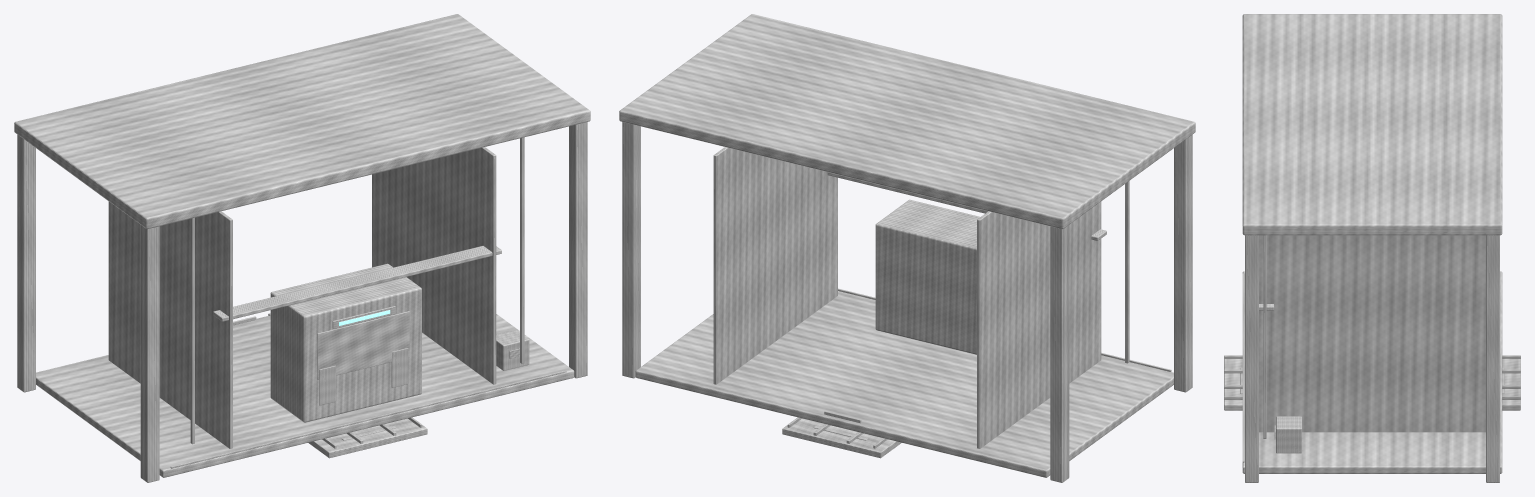
The model's file is train_station_variant_d.glb.
3 renders of one model, left to right at view 1: azimuth 30°, elevation 25°; view 2: azimuth 150°, elevation 25°; view 3: azimuth 270°, elevation 25°, orthographic. The views are drawn at different scales.
Visible parts, largest first — view 1: Roof shell, Raised service platform.003, Side cladding.001, Side cladding, Control module, Enclosed hall column, Enclosed hall column.002, Enclosed hall column.001, Control room glazing, Platform service canopy.003, Track bed.003, Platform edge marking.003 (+5 smaller); view 2: Roof shell, Raised service platform.003, Side cladding.001, Side cladding, Control module, Enclosed hall column.001, Enclosed hall column.003, Enclosed hall column, Track bed.003, Platform light mast.006, Platform service canopy.003; view 3: Roof shell, Side cladding.001, Raised service platform.003, Enclosed hall column.002, Enclosed hall column.003, Track bed.003, Power connection housing.003, Platform light mast.007, Platform edge marking.003.
Part boxes in pixels (x1,y1,x2,y2): Roof shell: [14, 14, 590, 229]; Raised service platform.003: [36, 314, 574, 477]; Side cladding.001: [372, 147, 496, 384]; Side cladding: [108, 201, 232, 448]; Control module: [270, 263, 421, 422]; Enclosed hall column: [140, 225, 159, 482]; Enclosed hall column.002: [569, 122, 587, 378]; Enclosed hall column.001: [17, 134, 35, 392]; Control room glazing: [317, 311, 409, 379]; Platform service canopy.003: [213, 246, 501, 321]; Track bed.003: [308, 418, 427, 458]; Platform edge marking.003: [170, 370, 566, 468]; Roof shell: [619, 14, 1195, 229]; Raised service platform.003: [635, 291, 1173, 477]; Side cladding.001: [713, 147, 837, 384]; Side cladding: [977, 201, 1101, 448]; Control module: [875, 199, 979, 354]; Enclosed hall column.001: [1050, 225, 1069, 482]; Enclosed hall column.003: [622, 122, 640, 378]; Enclosed hall column: [1174, 134, 1192, 392]; Track bed.003: [782, 418, 901, 458]; Platform light mast.006: [1125, 181, 1129, 363]; Platform service canopy.003: [827, 172, 1106, 240]; Roof shell: [1242, 14, 1502, 235]; Side cladding.001: [1259, 235, 1485, 432]; Raised service platform.003: [1242, 271, 1502, 473]; Enclosed hall column.002: [1245, 235, 1258, 482]; Enclosed hall column.003: [1486, 235, 1499, 482]; Track bed.003: [1224, 359, 1520, 410]; Power connection housing.003: [1276, 416, 1301, 453]; Platform light mast.007: [1263, 235, 1266, 438]; Platform edge marking.003: [1242, 273, 1244, 462].
Size of what is drawn, in the model's own units: 27 by 15.95 by 16.
7 materials, 7 textured.
